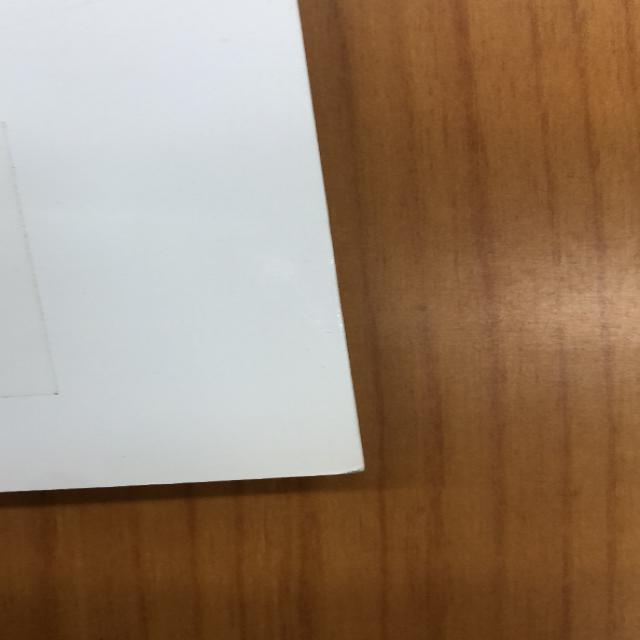Wornout: (312, 446, 375, 480)
